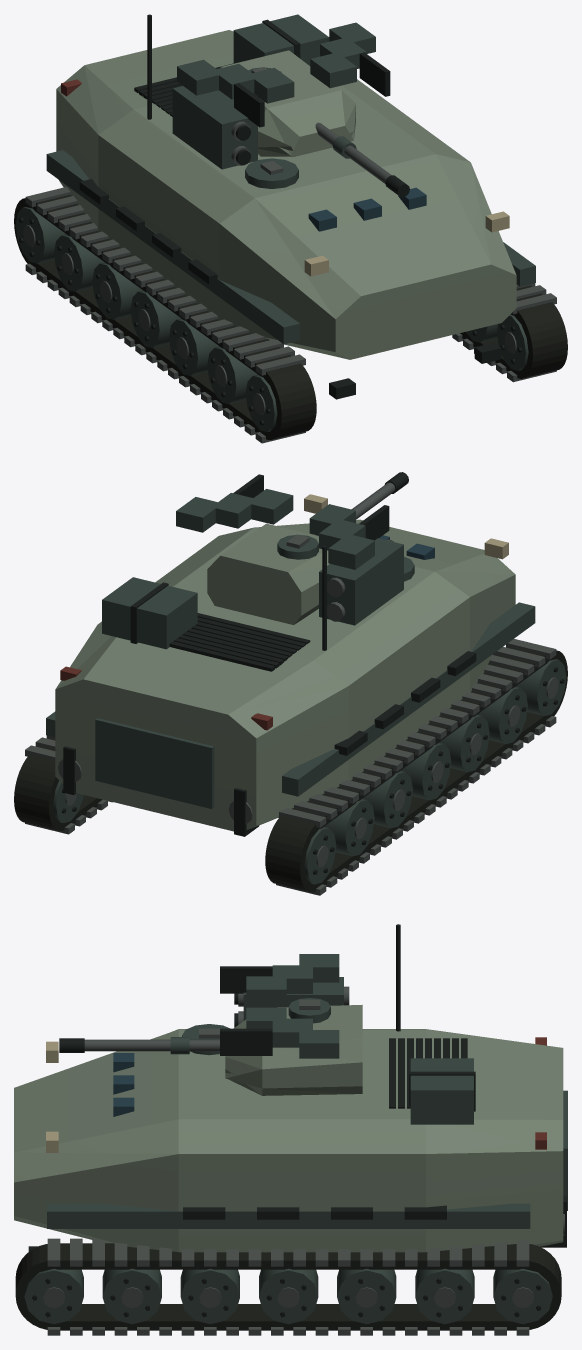
The model's file is ifv.glb.
The picture shows the model from 3 angles, top to bottom: view 1: azimuth 30°, elevation 25°; view 2: azimuth 150°, elevation 25°; view 3: azimuth 270°, elevation 25°; orthographic projection.
Visible parts, largest first — view 1: armor (×2), equipment (×4), glass; view 2: equipment (×4), armor (×2); view 3: armor (×2), equipment (×4), glass.
Part boxes in pixels (x1,y1,x2,y2): armor (×2): (56,30,516,359); equipment (×4): (14,14,567,443); glass: (308,187,426,231); equipment (×4): (14,472,567,895); armor (×2): (55,519,515,831); armor (×2): (14,1004,563,1252); equipment (×4): (15,924,567,1335); glass: (113,1053,134,1116).
Bounding box in the file's own units: 3.31 × 3.06 × 5.24.
